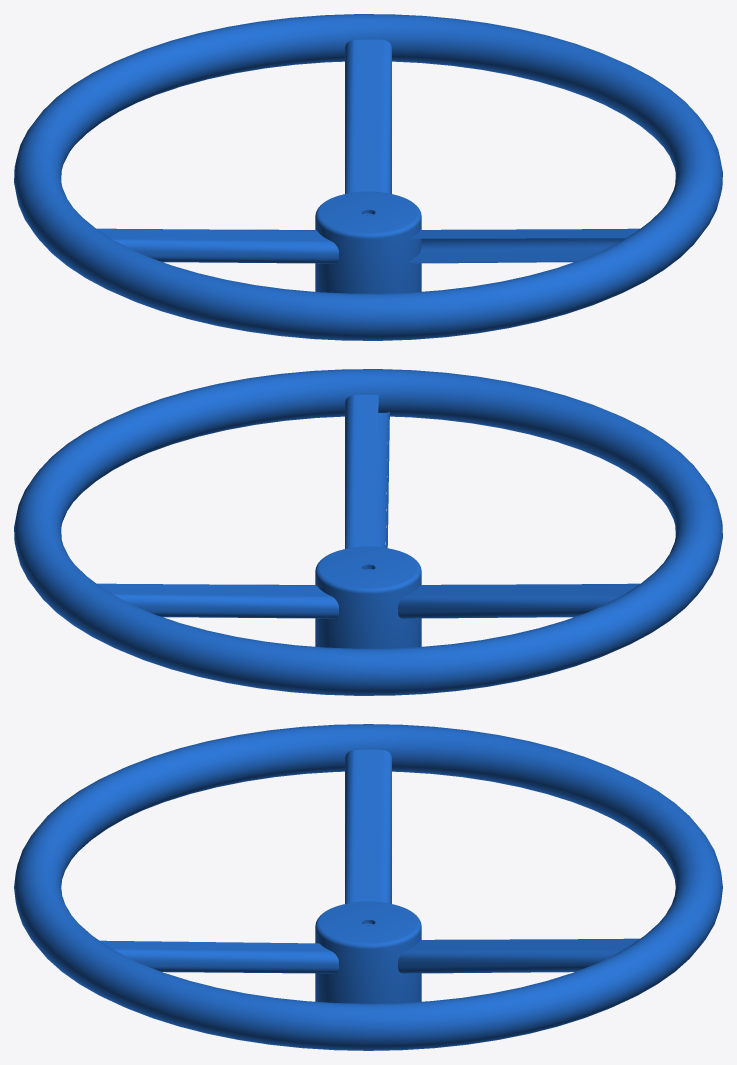
The picture shows the model from 3 angles, top to bottom: view 1: azimuth 30°, elevation 25°; view 2: azimuth 150°, elevation 25°; view 3: azimuth 270°, elevation 25°; orthographic projection.
Parts seen in each view (by area): view 1: jiezhifakaiguan1; view 2: jiezhifakaiguan1; view 3: jiezhifakaiguan1.
Boxes of the visible parts, x1=… form: jiezhifakaiguan1: x1=14, y1=14, x2=722, y2=340; jiezhifakaiguan1: x1=14, y1=369, x2=722, y2=695; jiezhifakaiguan1: x1=14, y1=724, x2=722, y2=1050.
Bounding box in the file's own units: 0.4232 × 0.102 × 0.4232.
